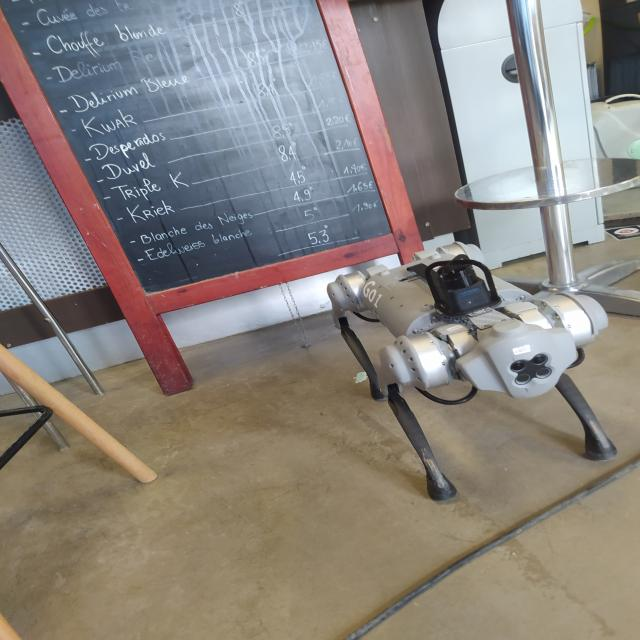unitree-go1-robot: (314, 234, 640, 514)
